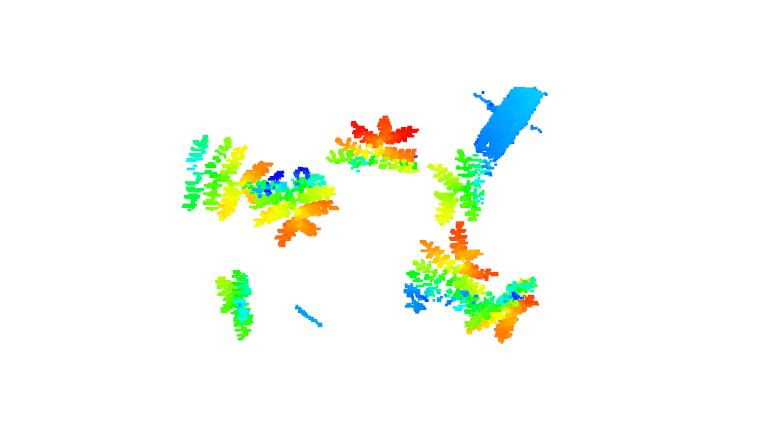chickpea: (404, 219, 498, 312), (180, 133, 274, 219), (251, 166, 341, 249), (326, 112, 422, 175), (466, 272, 543, 345), (426, 150, 497, 226), (215, 268, 258, 342)
